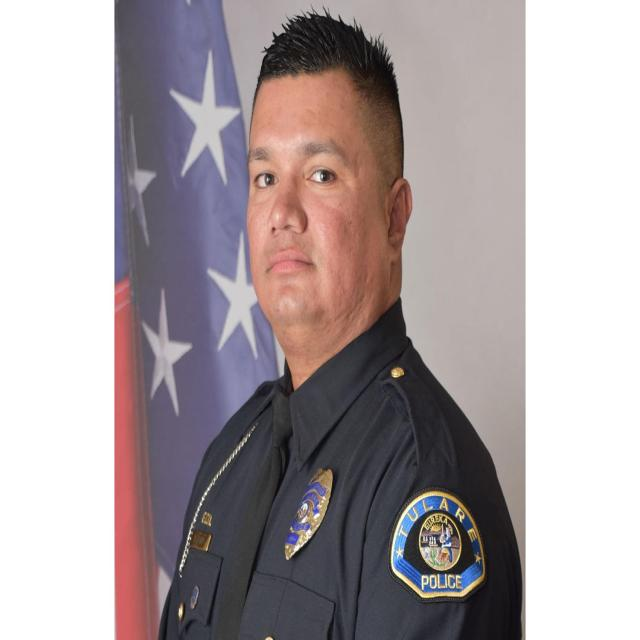police: (154, 5, 530, 640)
